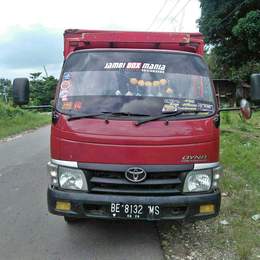plate: (109, 197, 161, 223)
